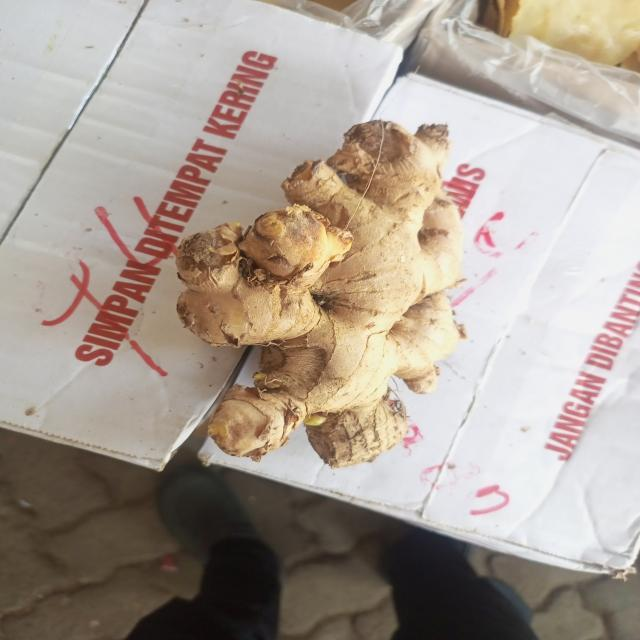ginger: (177, 122, 465, 464)
